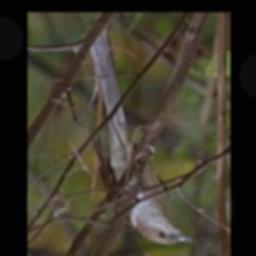Cuckoo: (87, 38, 191, 244)
